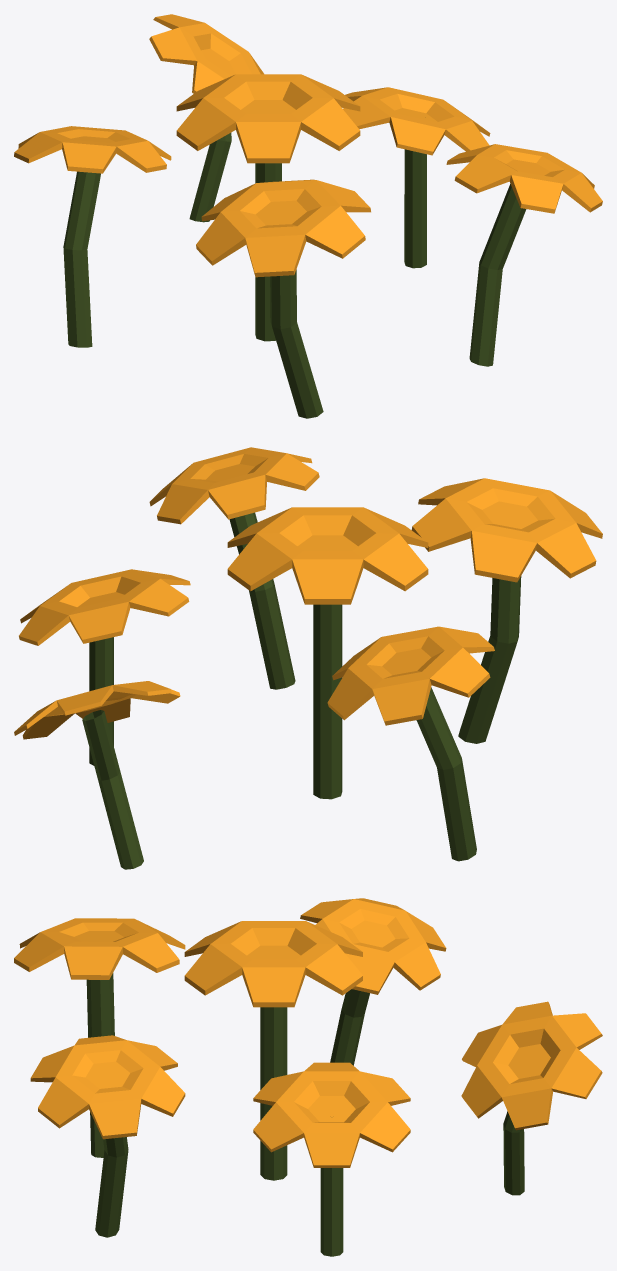
Rendered from Flower_1.fbx.
3 renders of one model, top to bottom at view 1: azimuth 30°, elevation 25°; view 2: azimuth 150°, elevation 25°; view 3: azimuth 270°, elevation 25°, orthographic. The views are drawn at different scales.
Visible parts, largest first — view 1: Flower_1; view 2: Flower_1; view 3: Flower_1.
Boxes of the visible parts, box(x1,y1,x2,y2) form: Flower_1: box(14, 14, 602, 418); Flower_1: box(14, 447, 602, 869); Flower_1: box(14, 898, 602, 1256).
Size of the model in its own units: 23.3 by 12.28 by 28.01.
